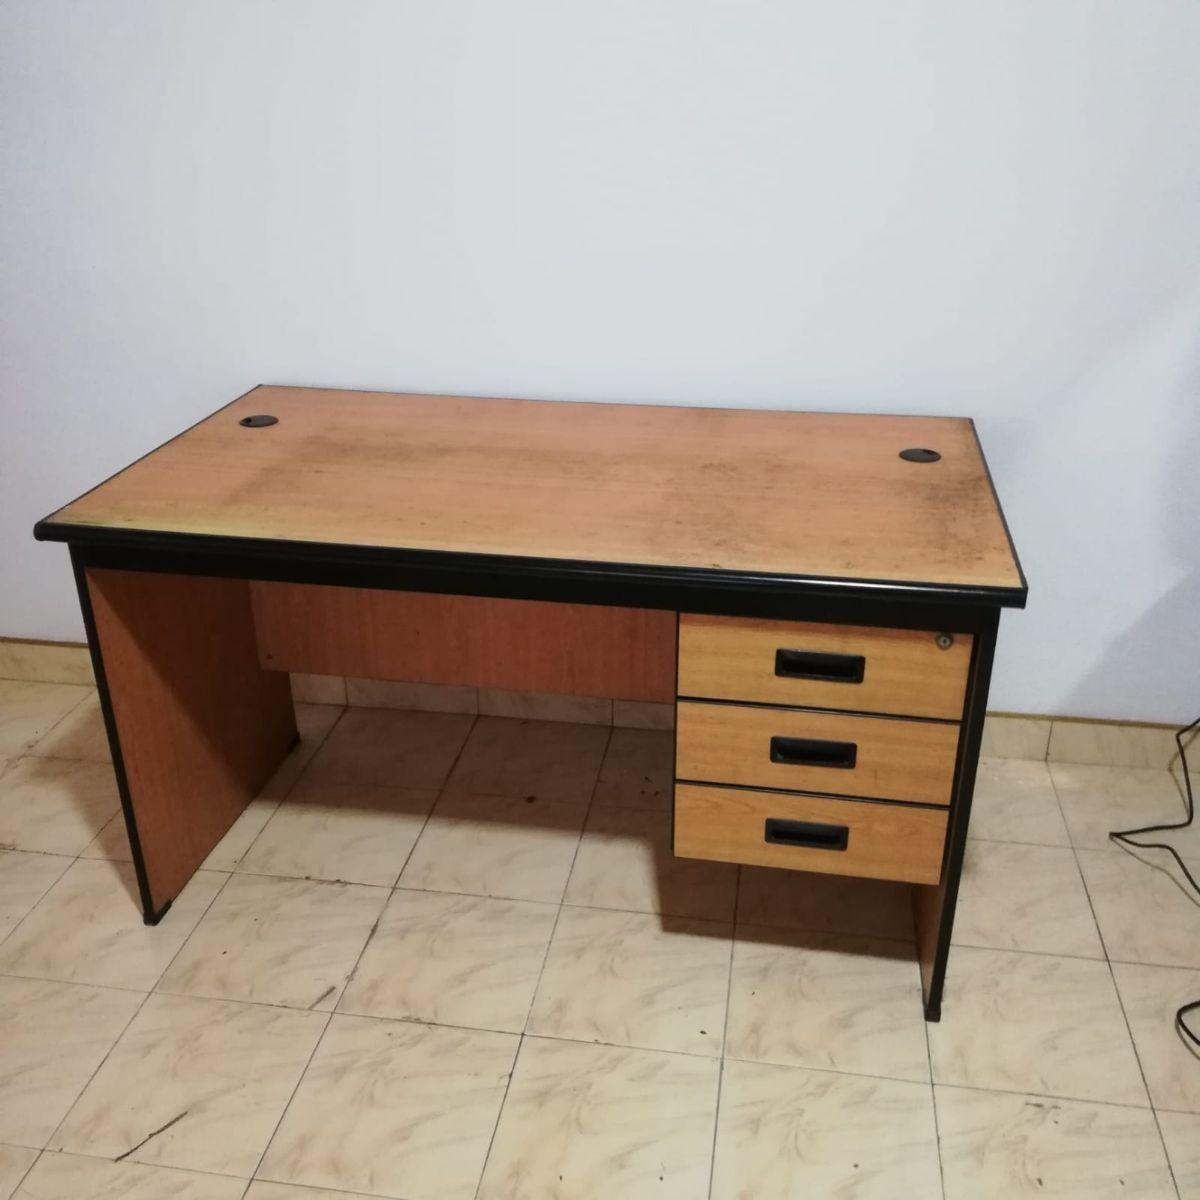Table: (29, 341, 1056, 1035)
